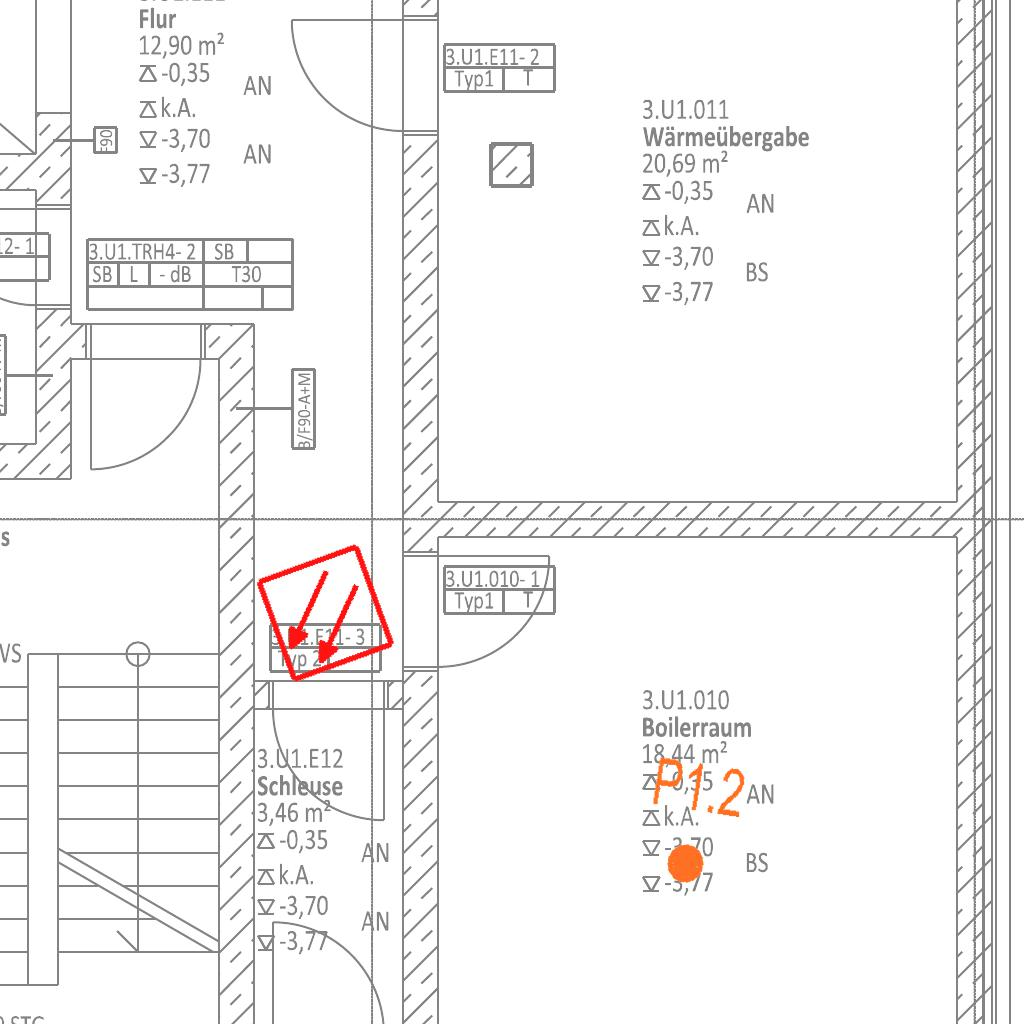Downlight_LED_Einbauleuchten_Flur: (637, 752, 750, 894)
RMO_Rauchmelder_optischer: (253, 541, 398, 686)
